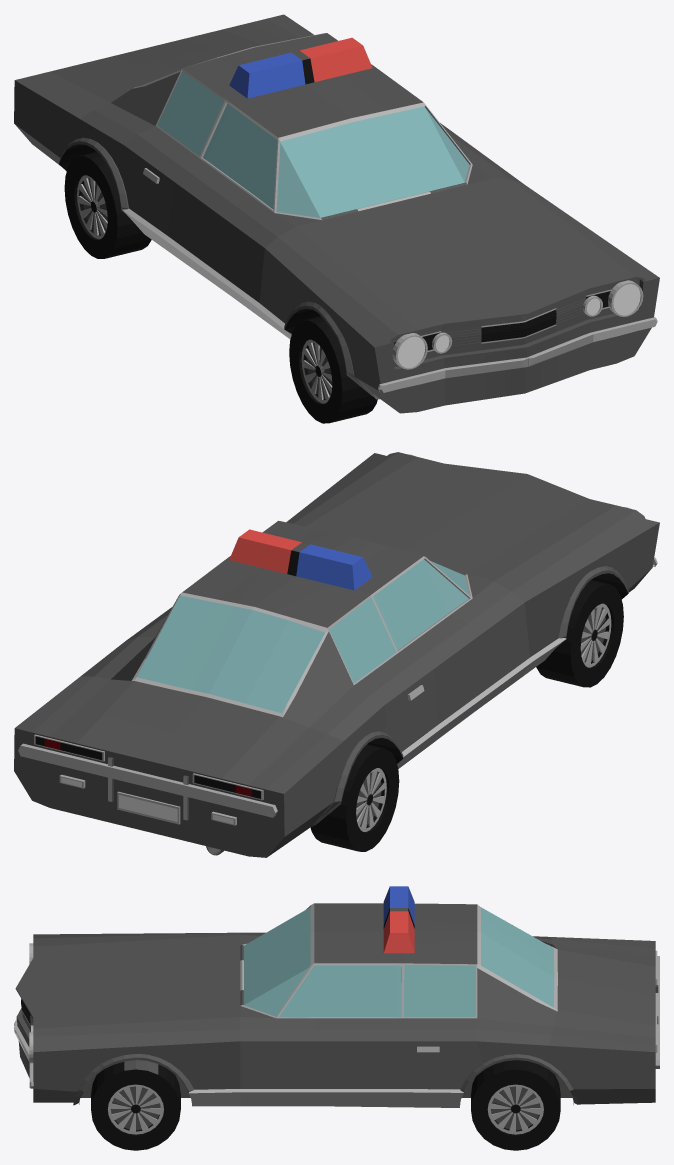
The model's file is car_police.fbx.
The picture shows the model from 3 angles, top to bottom: view 1: azimuth 30°, elevation 25°; view 2: azimuth 150°, elevation 25°; view 3: azimuth 270°, elevation 25°; orthographic projection. The views are drawn at different scales.
Visible parts, largest first — view 1: red car.001; view 2: red car.001; view 3: red car.001.
Boxes of the visible parts, x1=… form: red car.001: x1=14, y1=14, x2=659, y2=423; red car.001: x1=14, y1=452, x2=659, y2=857; red car.001: x1=14, y1=886, x2=659, y2=1150.
Size of the model in its own units: 212 by 153 by 491.
